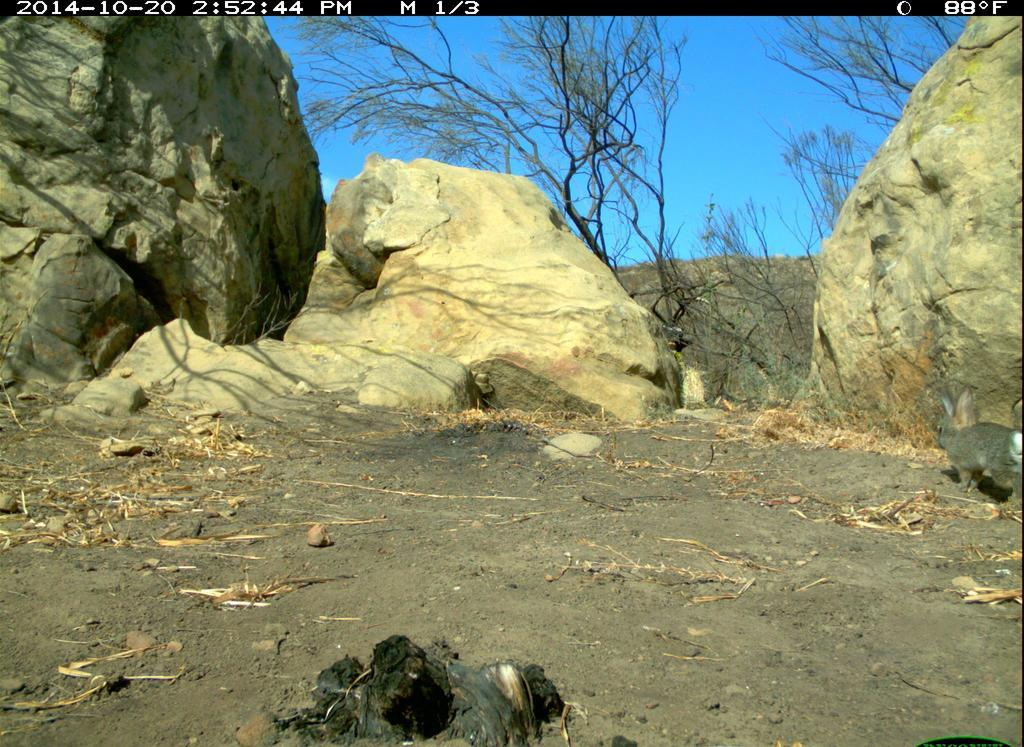rabbit: (930, 378, 1022, 509)
